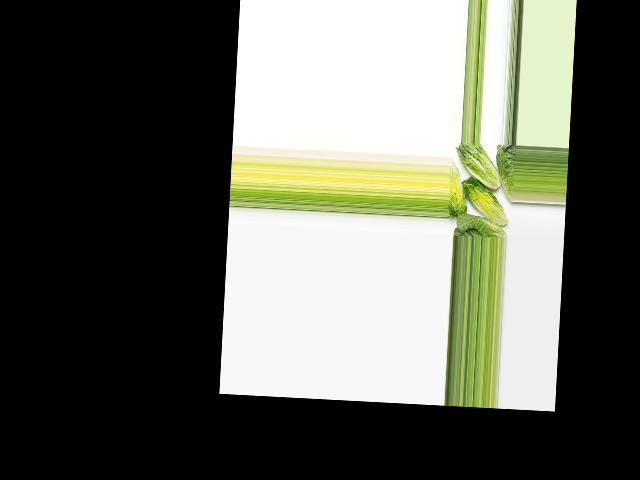lettuce: (453, 211, 506, 239)
